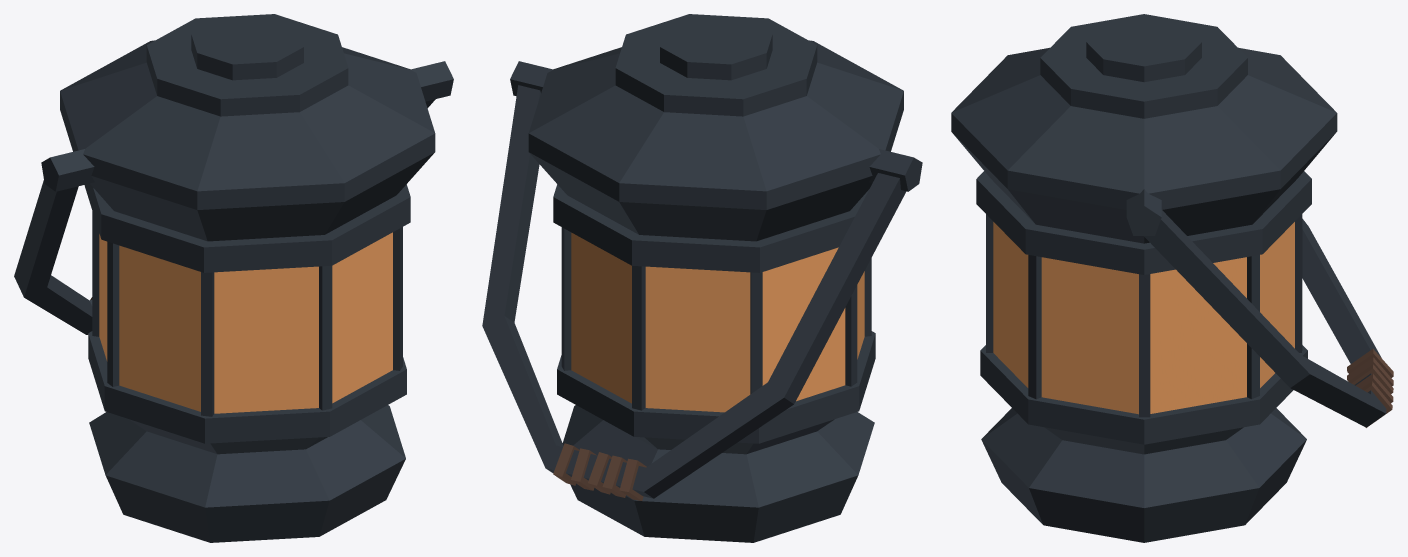
File: Lantern_Handle_Down.fbx
3 renders of one model, left to right at view 1: azimuth 30°, elevation 25°; view 2: azimuth 150°, elevation 25°; view 3: azimuth 270°, elevation 25°, orthographic.
Visible parts, largest first — view 1: Oil_Lamp_HandleDown; view 2: Oil_Lamp_HandleDown; view 3: Oil_Lamp_HandleDown.
Boxes of the visible parts, x1,y1,x2,y2 form: Oil_Lamp_HandleDown: (14, 14, 453, 542); Oil_Lamp_HandleDown: (482, 14, 922, 542); Oil_Lamp_HandleDown: (951, 14, 1393, 542).
Bounding box in the file's own units: 34.95 × 37.52 × 34.15.
